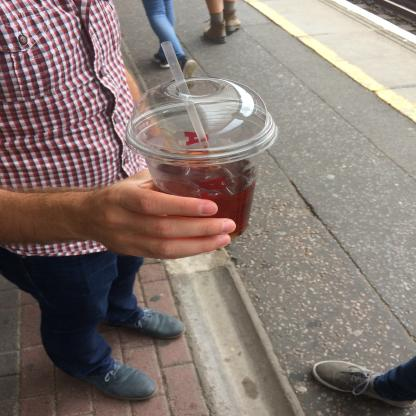trash: (114, 71, 294, 256), (152, 37, 236, 187)
